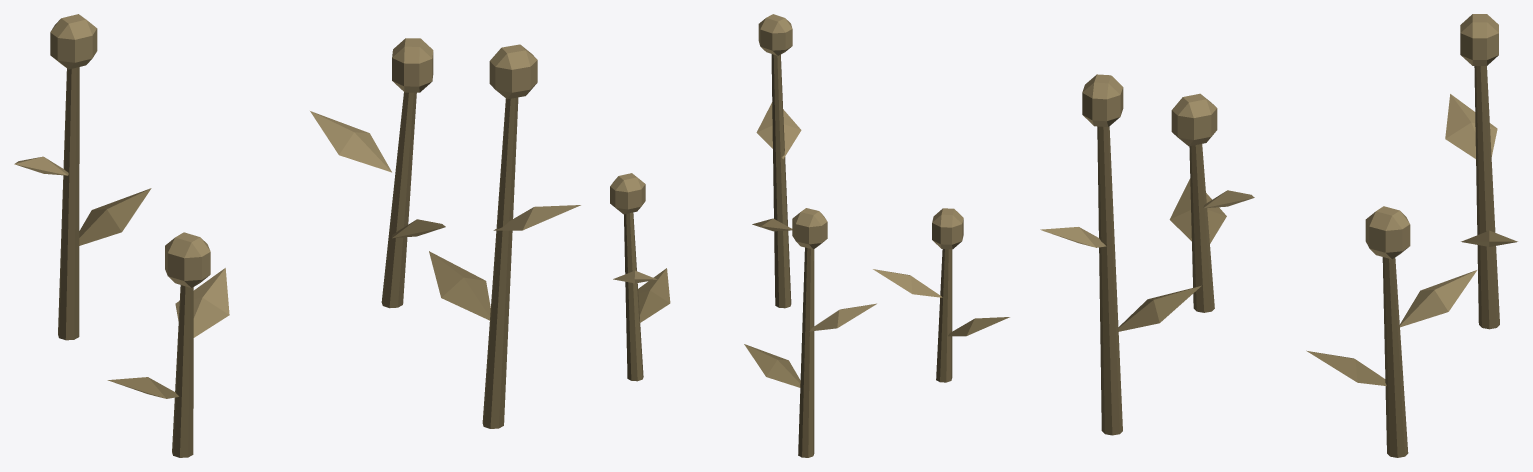
Rendered from flowers_2_autumn.glb.
3 renders of one model, left to right at view 1: azimuth 30°, elevation 25°; view 2: azimuth 150°, elevation 25°; view 3: azimuth 270°, elevation 25°, orthographic. The views are drawn at different scales.
Parts seen in each view (by area): view 1: flowers_2_autumn; view 2: flowers_2_autumn; view 3: flowers_2_autumn.
Part boxes in pixels (x1,y1,x2,y2): flowers_2_autumn: [14, 14, 580, 457]; flowers_2_autumn: [610, 14, 1009, 457]; flowers_2_autumn: [1040, 14, 1517, 457].
Bounding box in the file's own units: 0.9776 × 0.82 × 0.9908.
